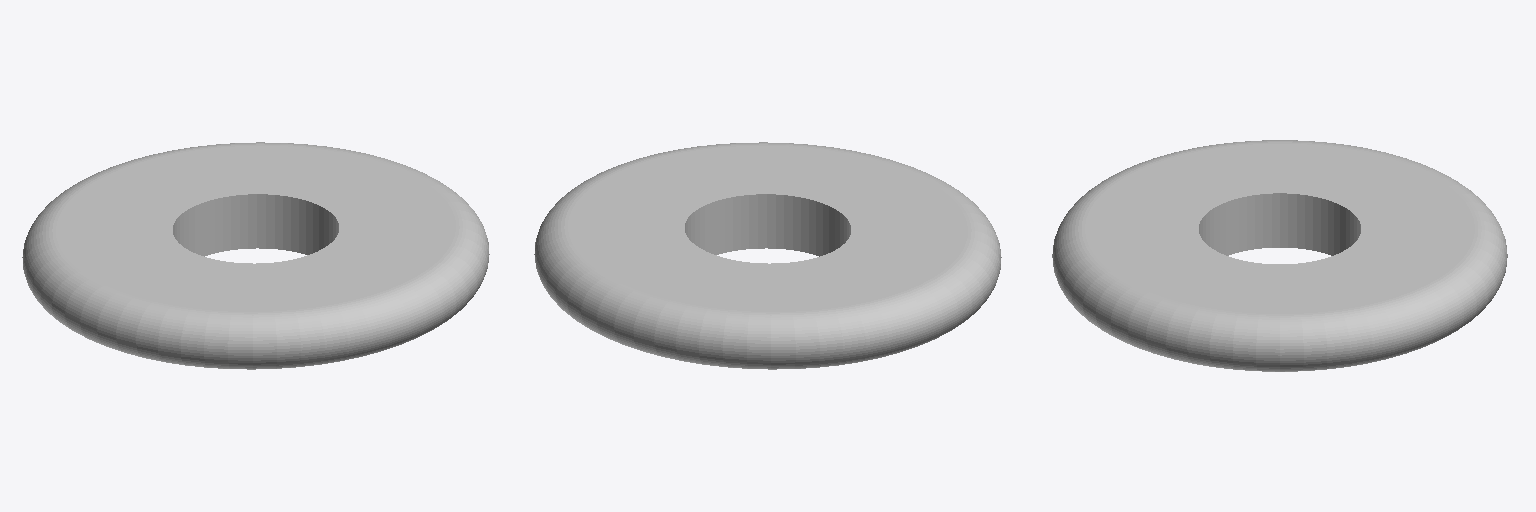
The model's file is disc.obj.
3 renders of one model, left to right at view 1: azimuth 30°, elevation 25°; view 2: azimuth 150°, elevation 25°; view 3: azimuth 270°, elevation 25°, orthographic.
Visible parts, largest first — view 1: disk3.001; view 2: disk3.001; view 3: disk3.001.
Part boxes in pixels (x1,y1,x2,y2): disk3.001: (22,142,489,369); disk3.001: (534,142,1001,369); disk3.001: (1052,140,1507,371).
Size of the model in its own units: 9.75 by 1.24 by 9.43.